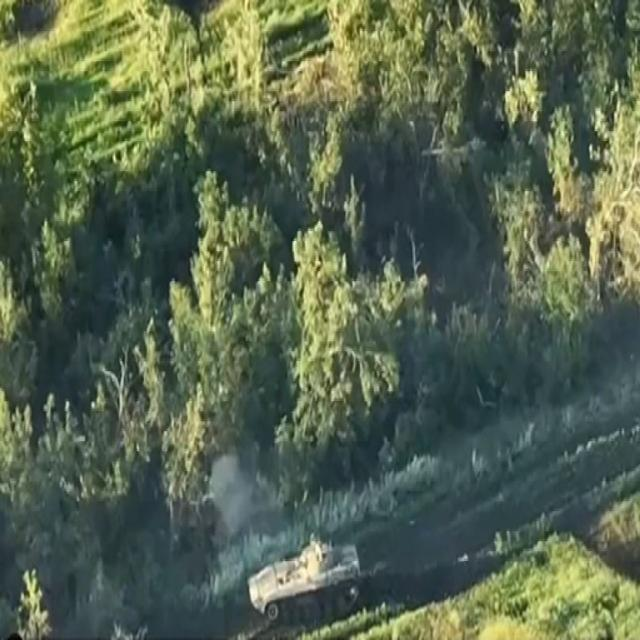APC-IFV: (241, 529, 364, 624)
